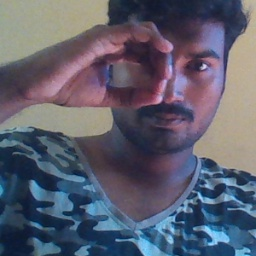O: (30, 16, 176, 115)
